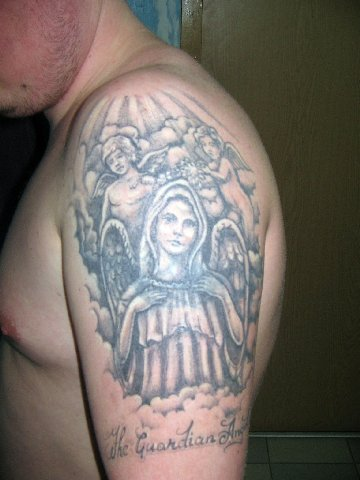tatu1_angel: (95, 125, 165, 208), (176, 120, 259, 189)
tatu2_bogorodica: (136, 181, 248, 339)
